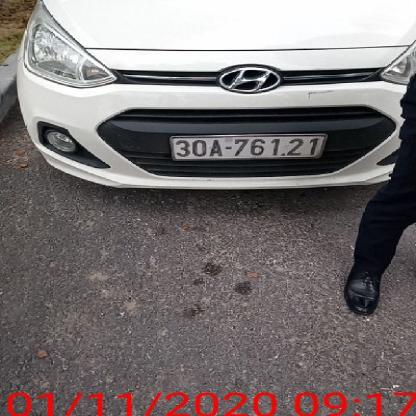biensoxe: (168, 131, 327, 163)
